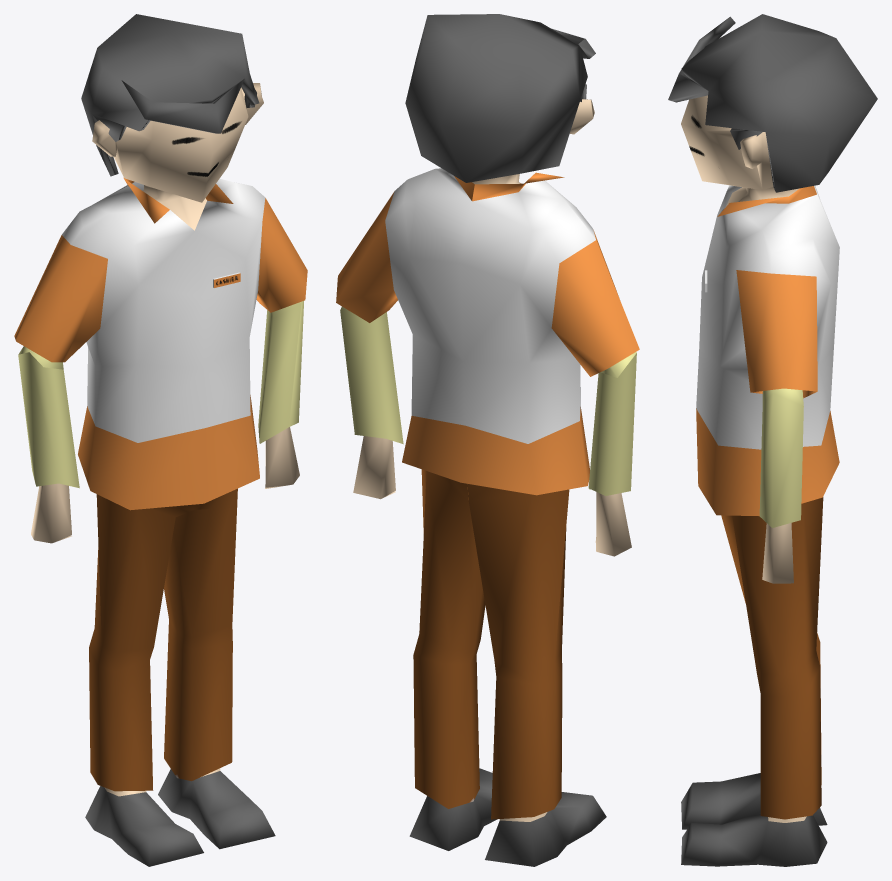
The model's file is Cashier.fbx.
The picture shows the model from 3 angles, left to right: view 1: azimuth 30°, elevation 25°; view 2: azimuth 150°, elevation 25°; view 3: azimuth 270°, elevation 25°; orthographic projection. The views are drawn at different scales.
Visible parts, largest first — view 1: Body; view 2: Body; view 3: Body.
Boxes of the visible parts, x1,y1,x2,y2 form: Body: (14,14,307,866); Body: (336,14,639,866); Body: (668,14,877,866).
Size of the model in its own units: 245 by 634 by 150.
Materials: 1 (1 with a texture image).
